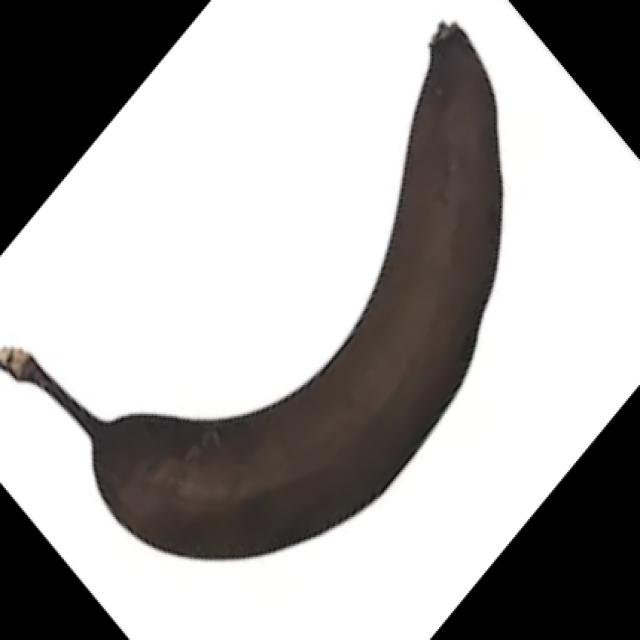Rotten: (1, 21, 504, 561)
